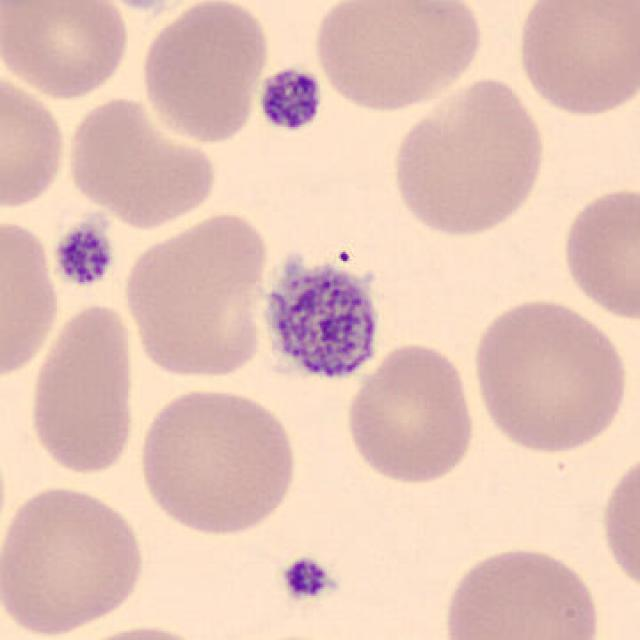Platelets: (256, 245, 386, 390), (254, 63, 326, 134), (51, 220, 118, 291), (277, 554, 336, 604)
RBC: (119, 206, 276, 384), (386, 74, 549, 242), (468, 294, 631, 458), (134, 382, 300, 540), (0, 481, 149, 638), (23, 296, 141, 480), (62, 92, 220, 229), (341, 338, 480, 488), (310, 0, 486, 115), (137, 0, 272, 146), (438, 541, 606, 640), (510, 0, 638, 120), (2, 0, 133, 102), (556, 180, 638, 324), (0, 212, 64, 384), (0, 70, 71, 212), (595, 444, 640, 601), (56, 620, 220, 640)
